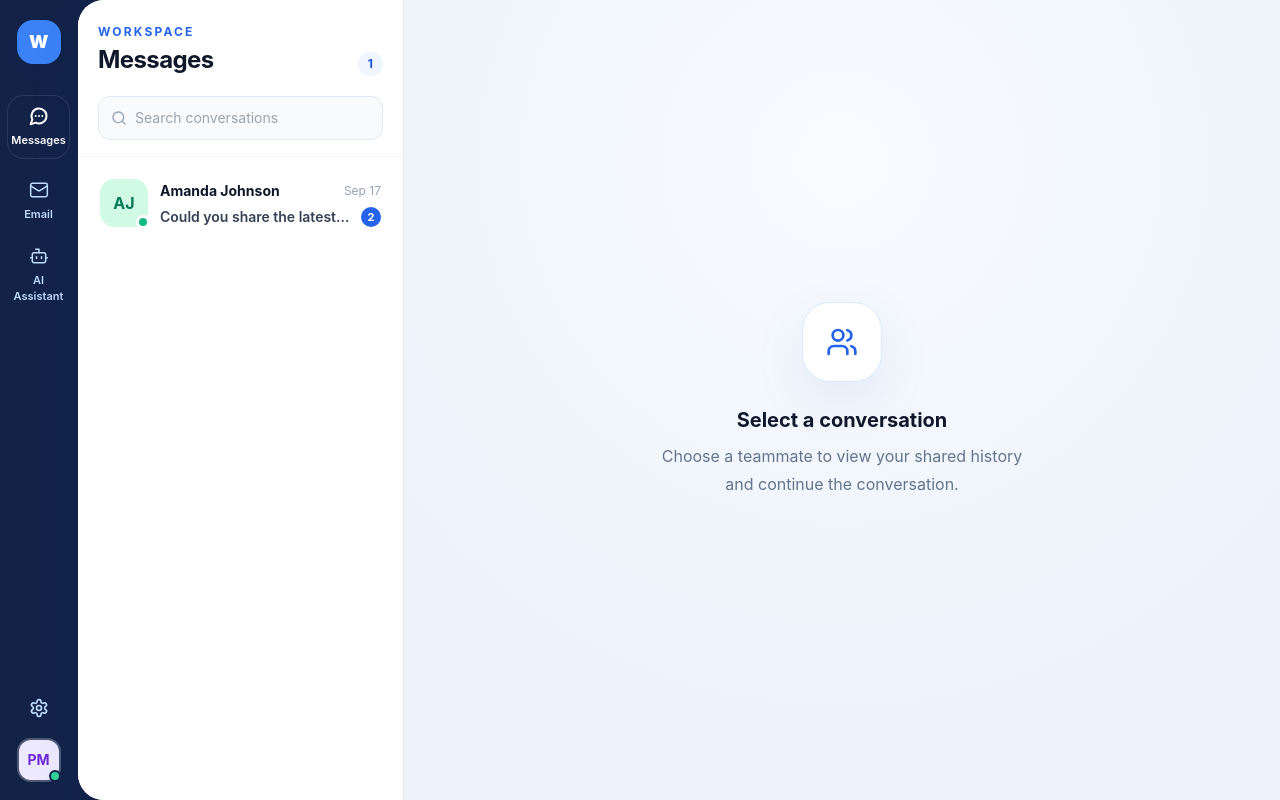
Scenario: WorkHub › loads contacts and sends a message into the active conversation
The width and height of the screenshot is (1280, 800).
Click the text "Amanda Johnson". click: x=220, y=191
box: 160,181 -> 280,201
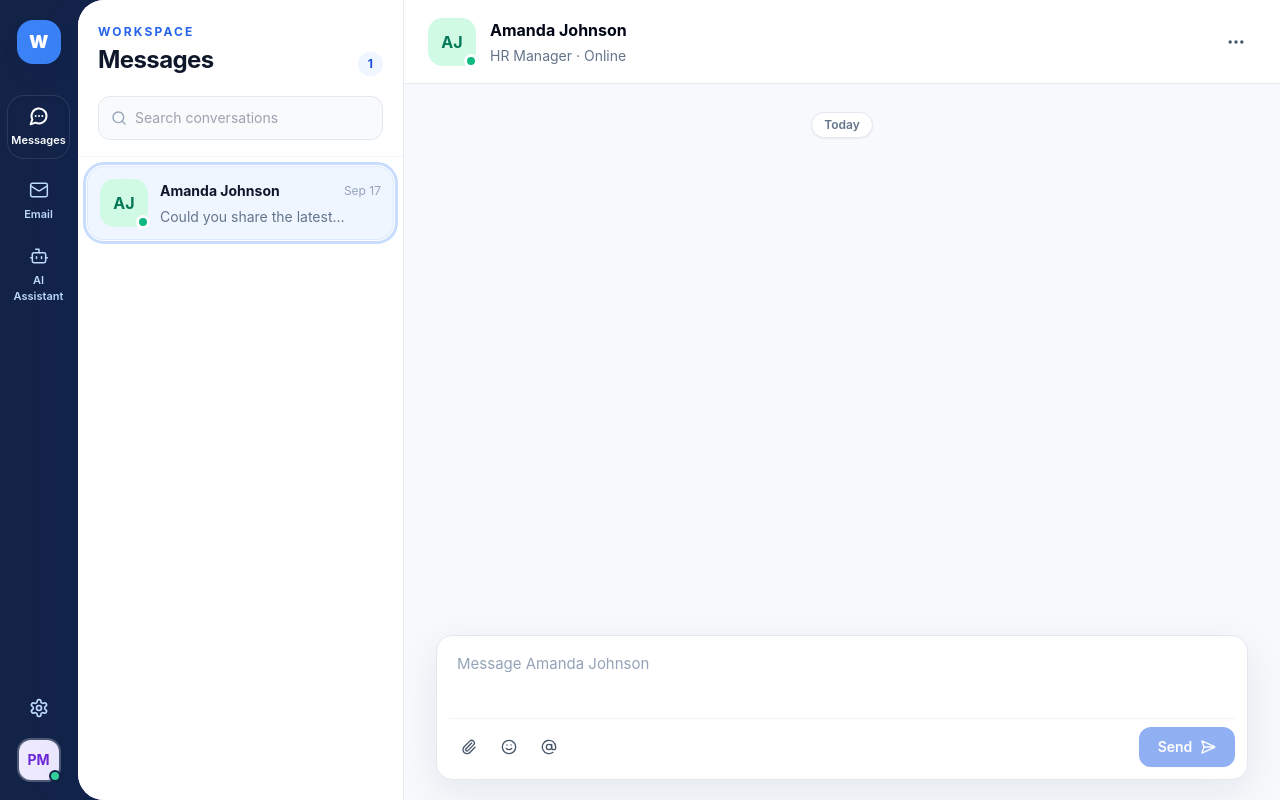
Type "Hi Amanda, I have finished the demo. Could you take a look?" into the text box with placeholder "Message Amanda Johnson". click: x=842, y=676
box: 449,648 -> 1235,704
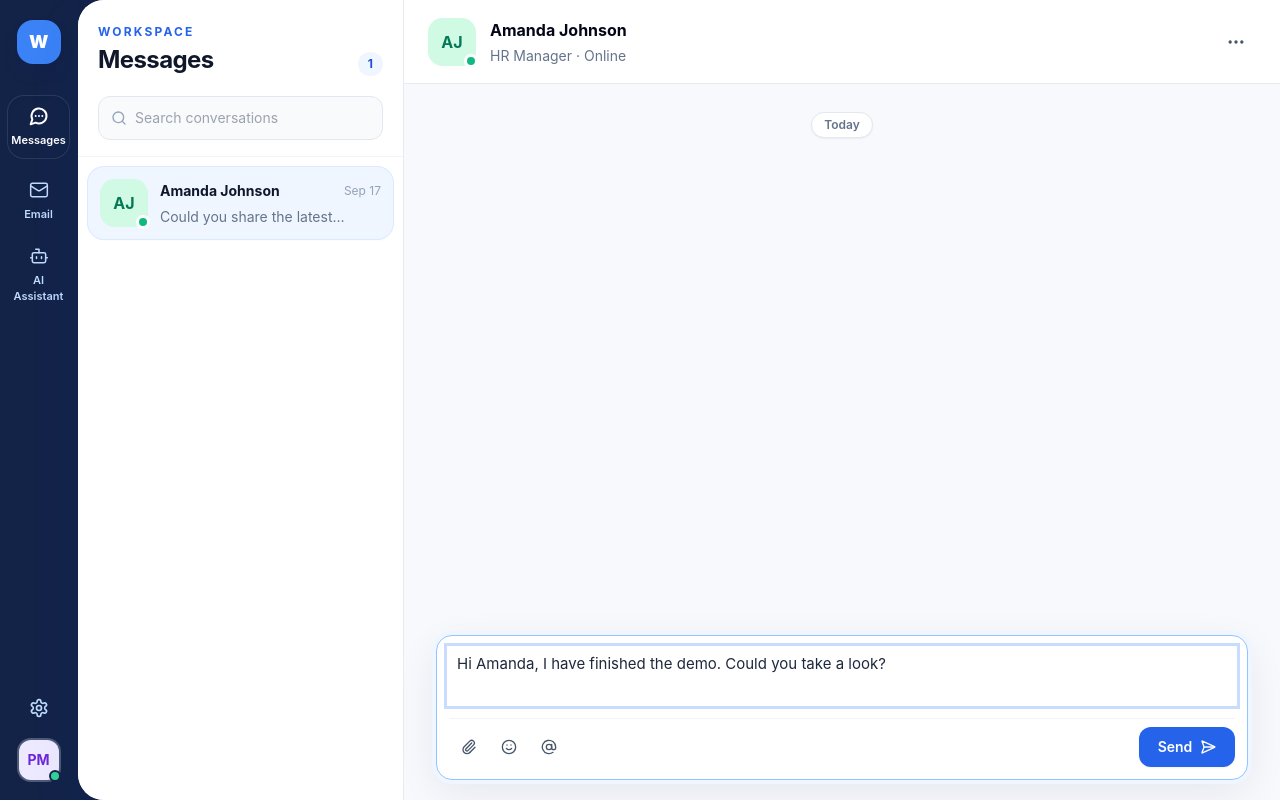
Click the button with aria-label "Send message". click: x=1187, y=747
box: 1139,727 -> 1235,767
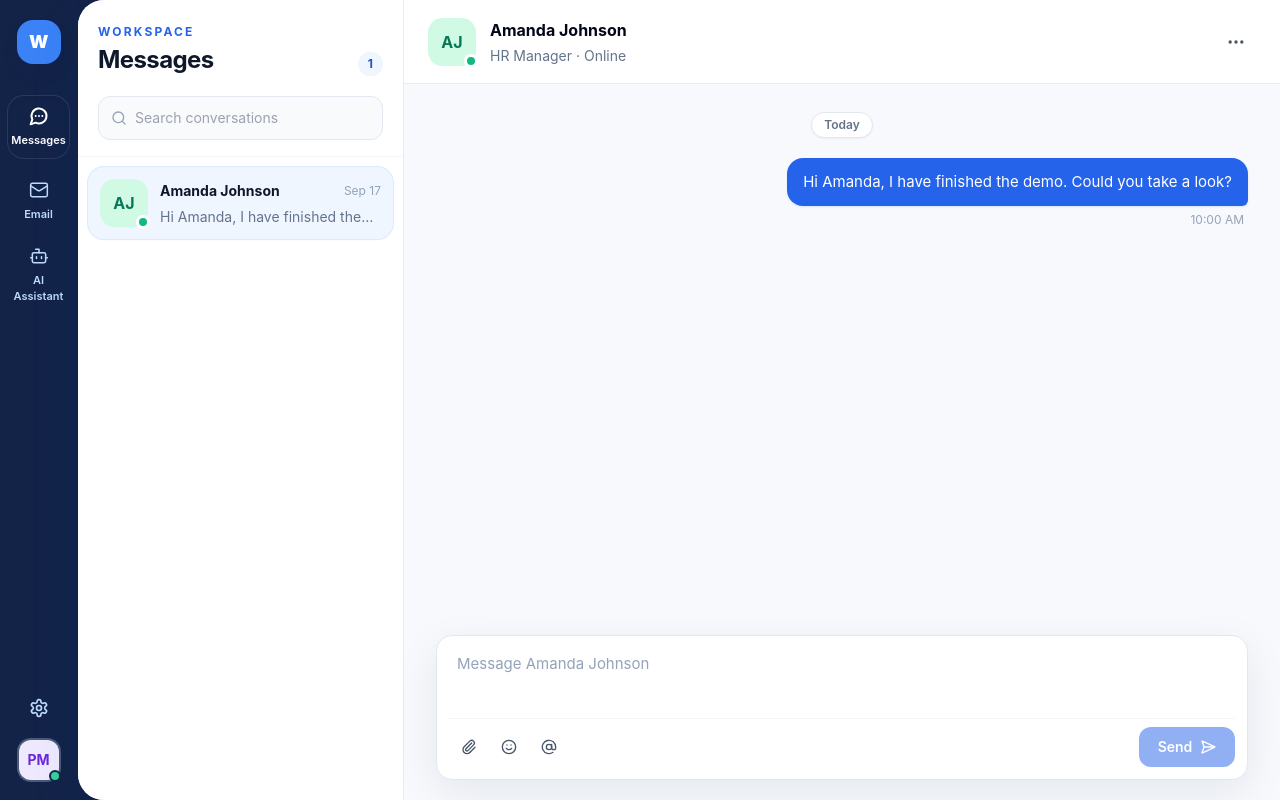
Expected: the text "Hi Amanda, I have finished the demo. Could you take a look?" below "Workspace" is shown, 160,208 -> 361,245
